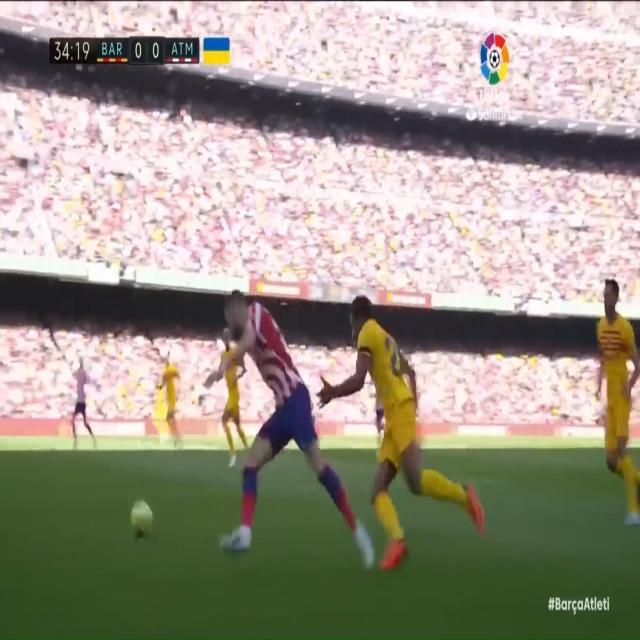ball: (124, 488, 162, 551)
player: (316, 283, 489, 584), (200, 279, 367, 576), (585, 255, 640, 518), (205, 319, 249, 466), (149, 342, 186, 463), (66, 347, 103, 462)
